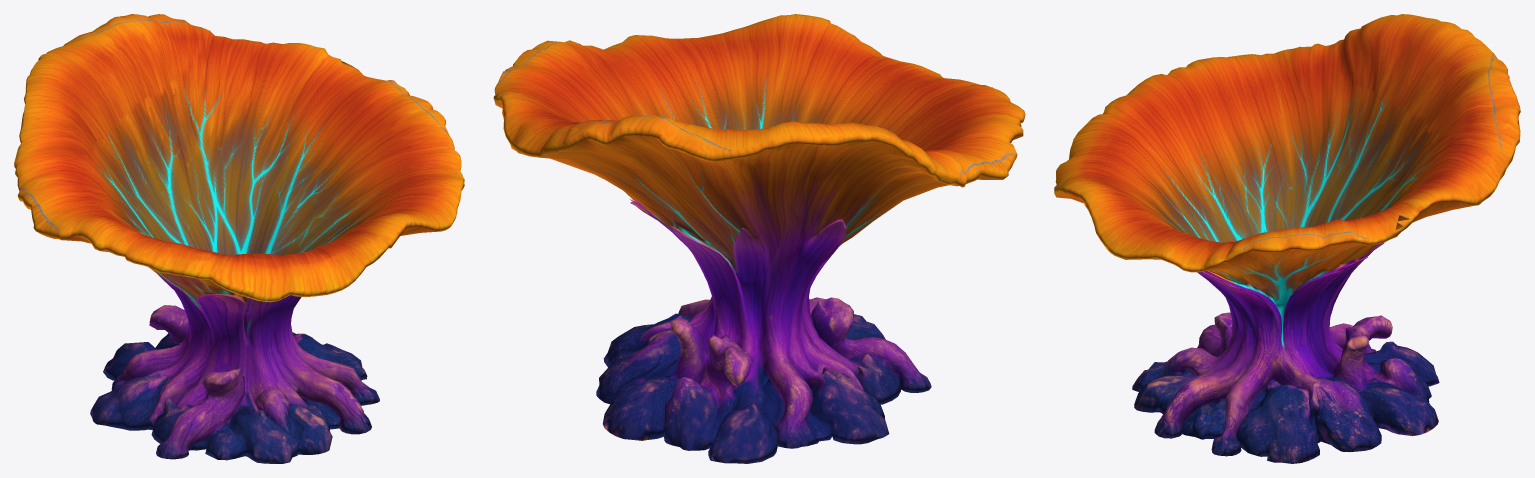
Rendered from fungus.glb.
3 renders of one model, left to right at view 1: azimuth 30°, elevation 25°; view 2: azimuth 150°, elevation 25°; view 3: azimuth 270°, elevation 25°, orthographic. The views are drawn at different scales.
Bounding box in the file's own units: 0.9595 × 0.6997 × 0.9209.
1 material, 1 textured.
